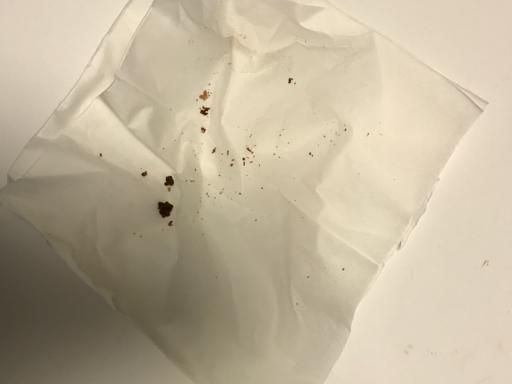trash: (0, 6, 504, 380)
